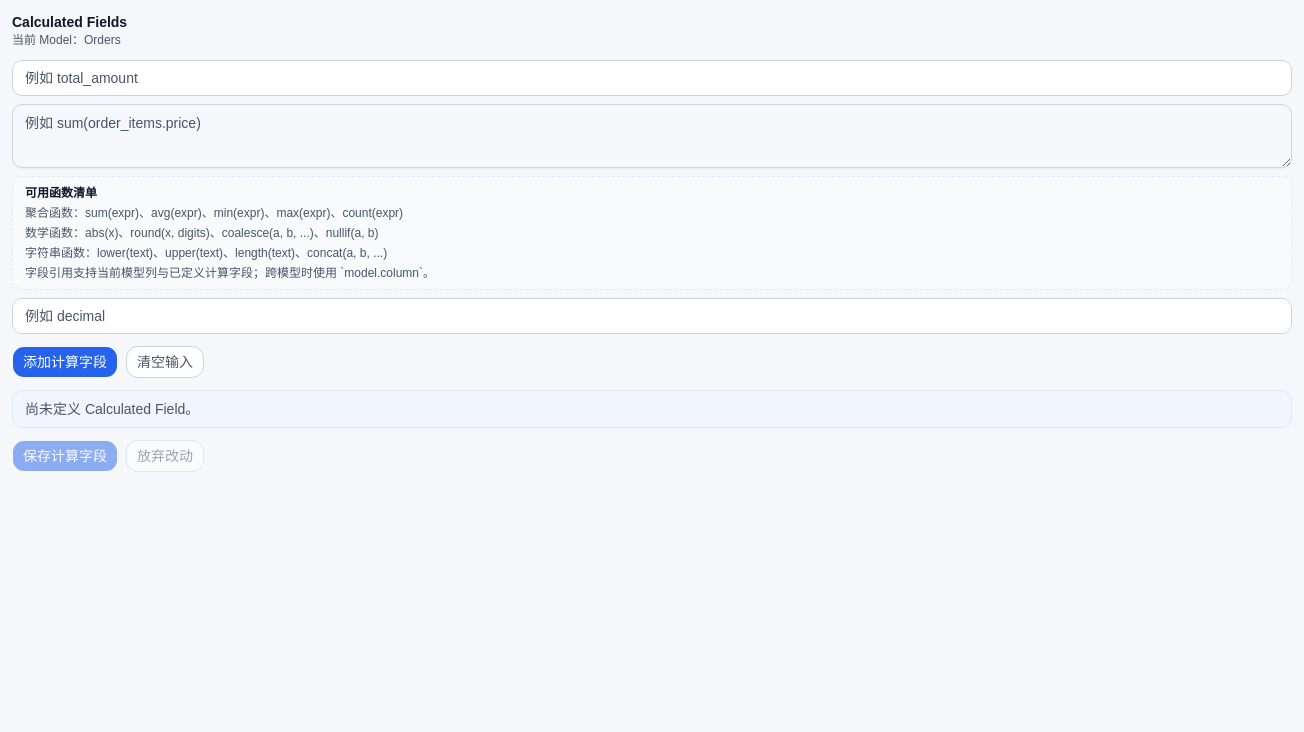
Scenario: ModelingWorkspacePage › maps backend calculated-field expression errors to readable grouped guidance
This screenshot has width=1304, height=732.
Type "pow_case" into the field named "计算字段名称" at (652, 78), box [12, 60, 1292, 96]
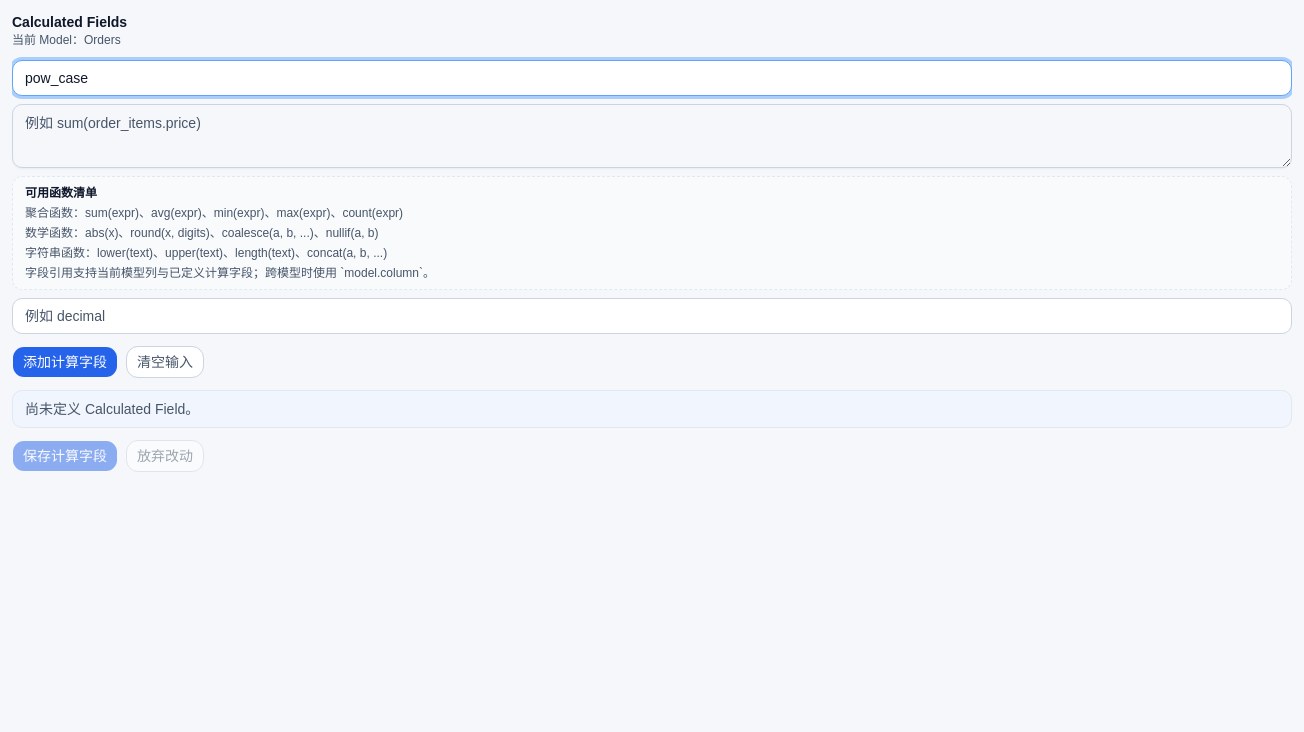
Type "pow(total_amount, 2)" into the text box named "表达式" at (652, 136), box [12, 104, 1292, 168]
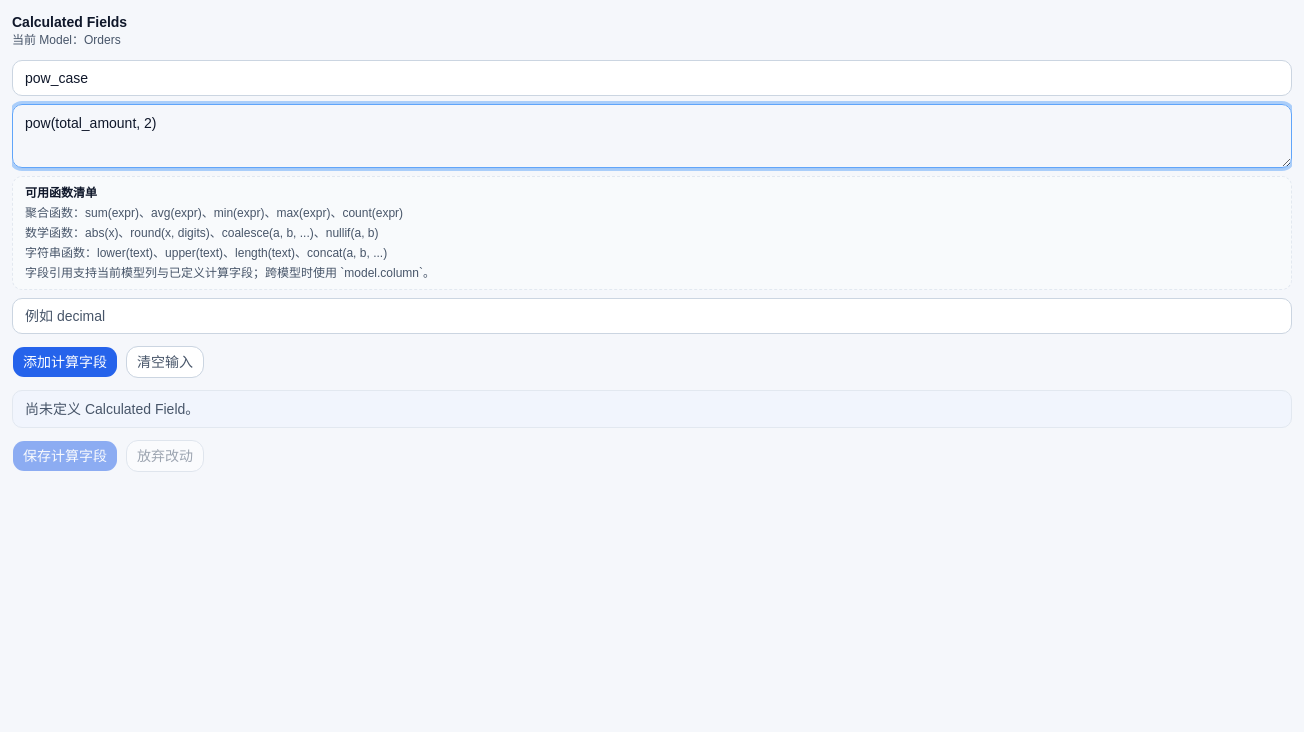
Type "numeric" into the field named "数据类型" at (652, 316), box [12, 298, 1292, 334]
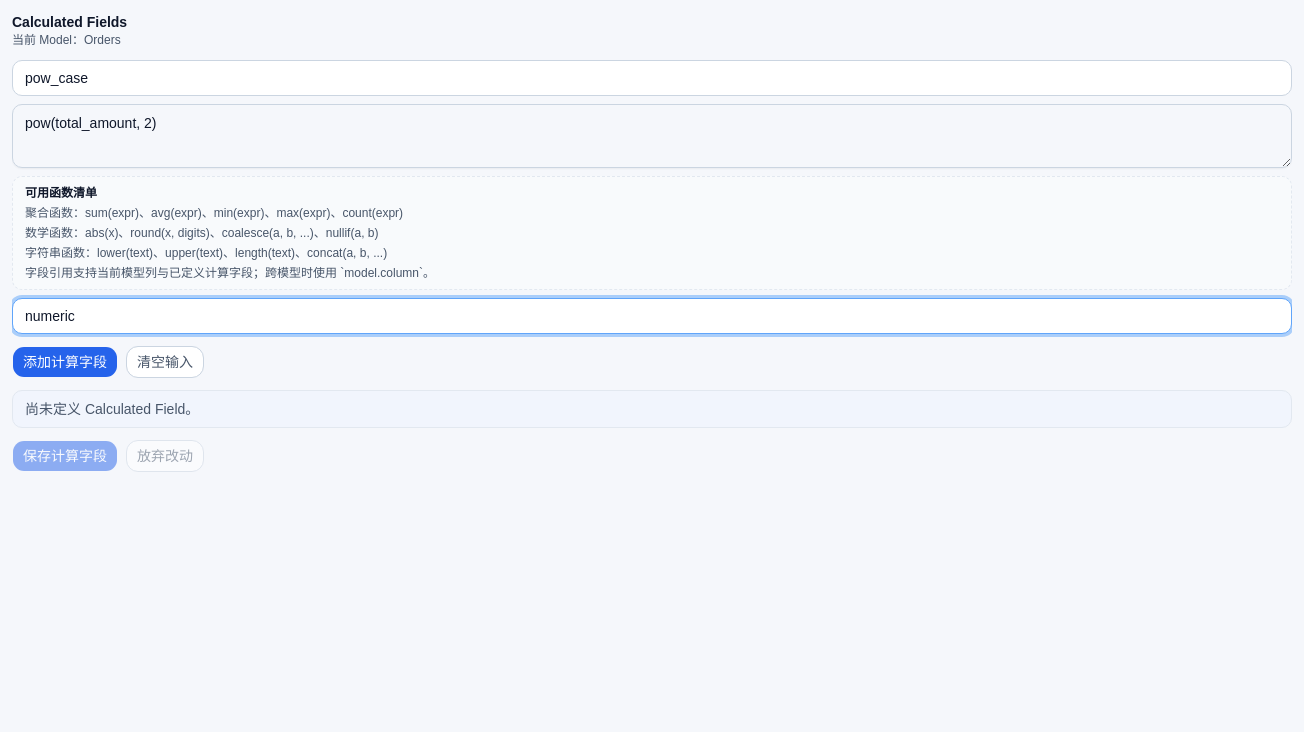
Click the button "添加计算字段" at (65, 362), box [12, 346, 118, 378]
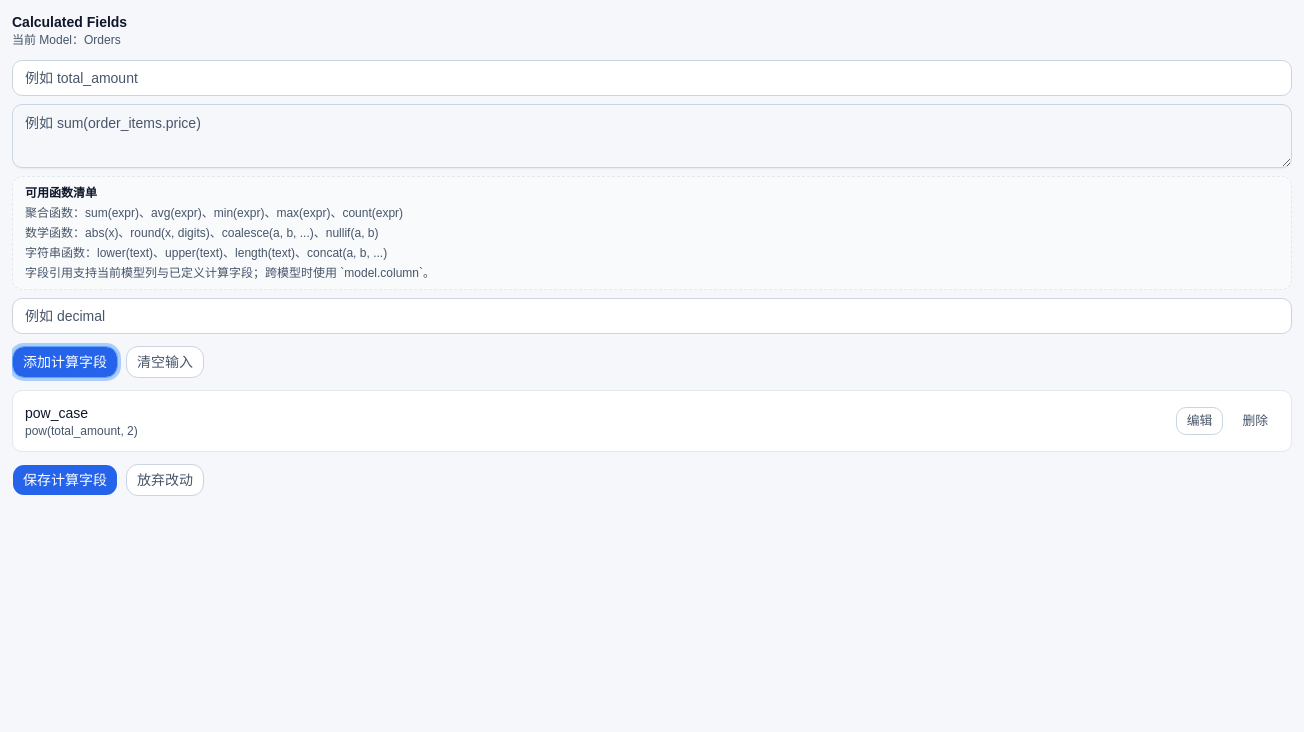
Click the button "保存计算字段" at (65, 480), box [12, 464, 118, 496]
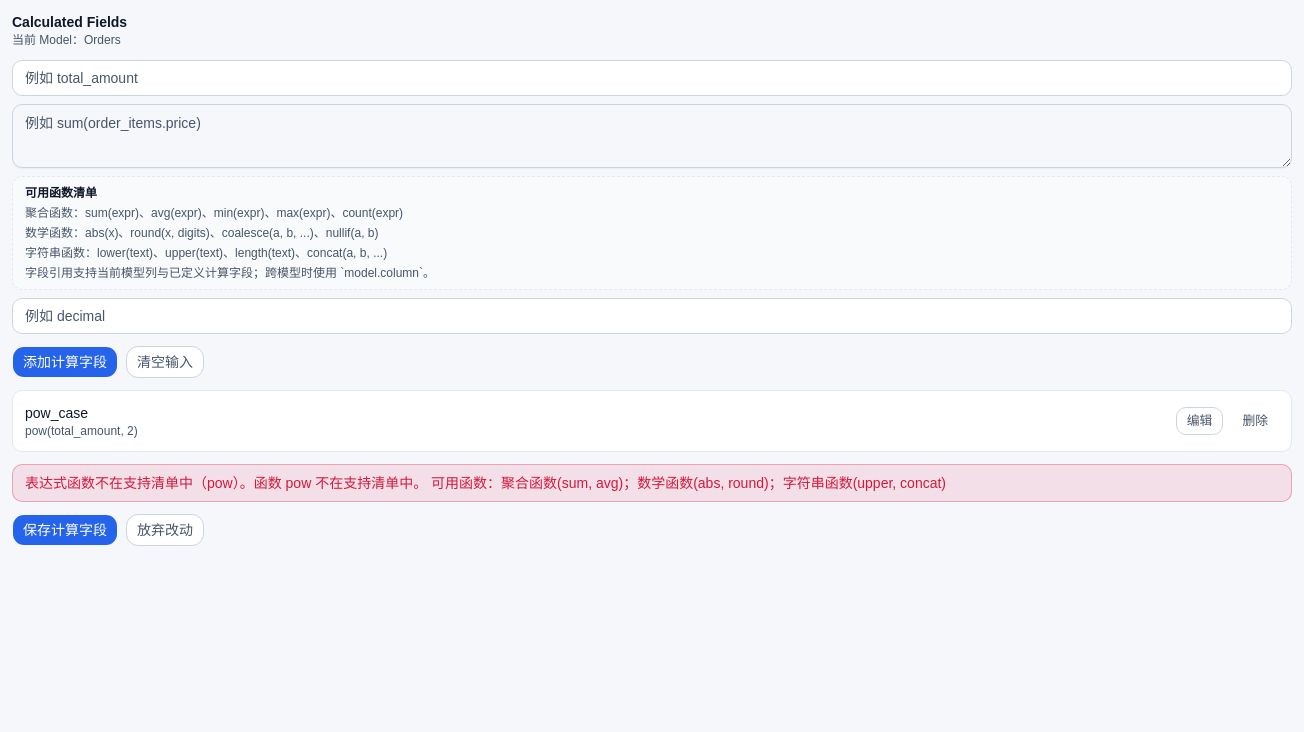
Result: the text "可用函数：聚合函数(sum, avg)" is shown at [25, 475, 946, 491]
